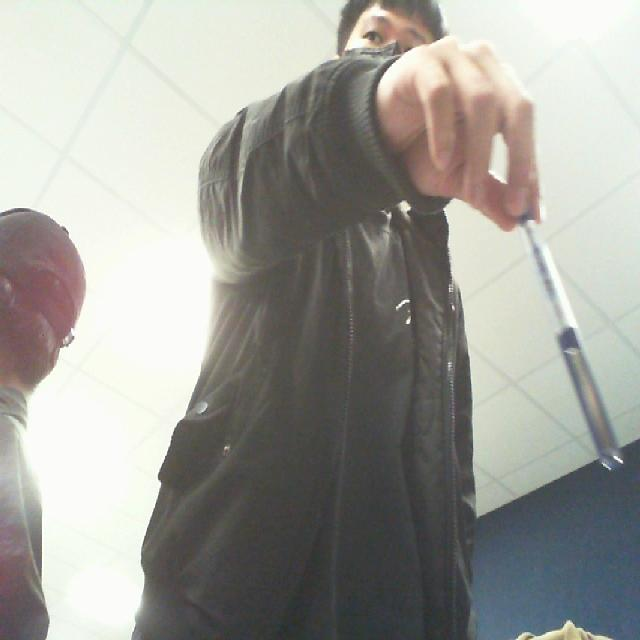Pen: (502, 178, 634, 481)
